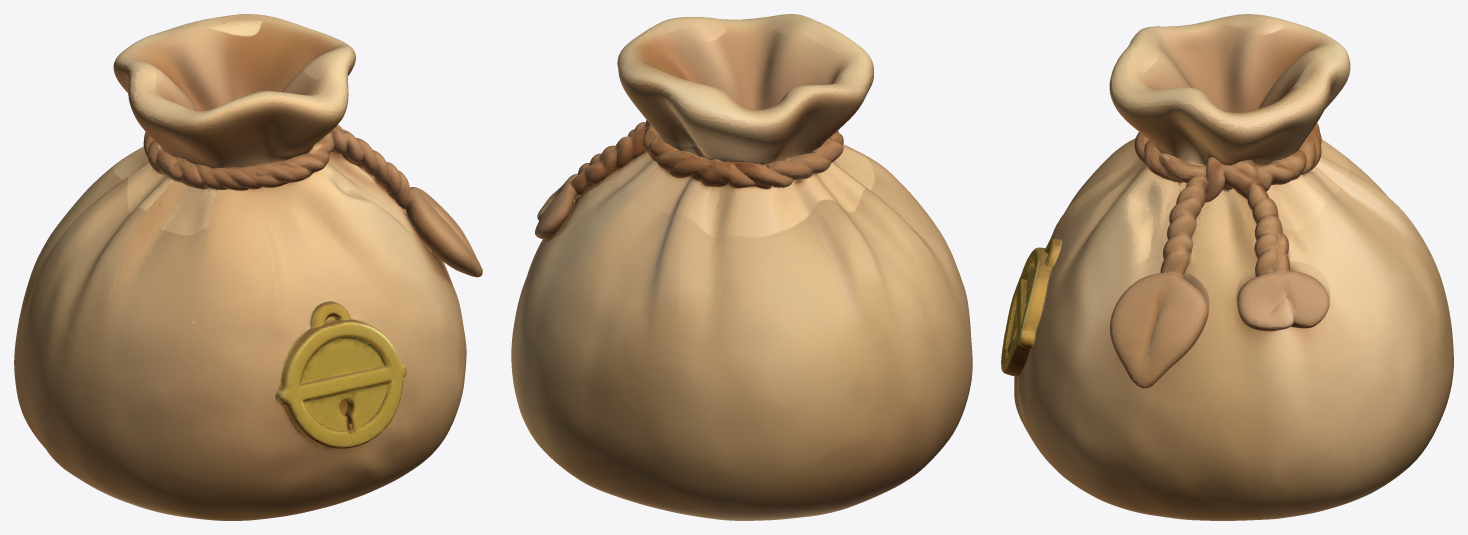
The model's file is prp_bells_01.glb.
3 renders of one model, left to right at view 1: azimuth 30°, elevation 25°; view 2: azimuth 150°, elevation 25°; view 3: azimuth 270°, elevation 25°, orthographic.
Visible parts, largest first — view 1: geometry_0; view 2: geometry_0; view 3: geometry_0.
Boxes of the visible parts, box(x1,y1,x2,y2) form: geometry_0: box(14, 14, 482, 520); geometry_0: box(511, 14, 972, 520); geometry_0: box(1001, 14, 1453, 520).
Size of the model in its own units: 0.2002 by 0.2 by 0.1971.
Materials: 1 (1 with a texture image).
